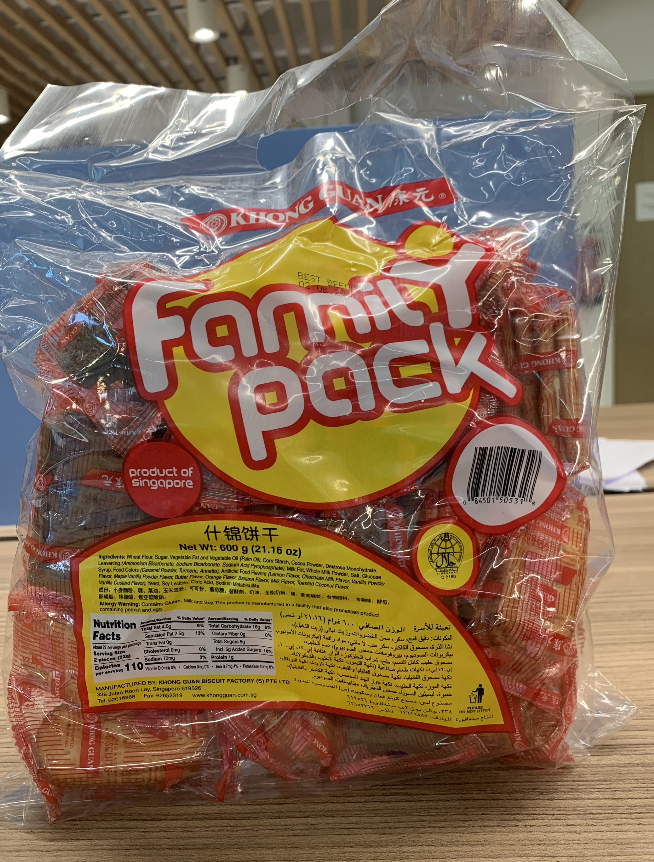cookies_600g-699g: (71, 201, 540, 702)
